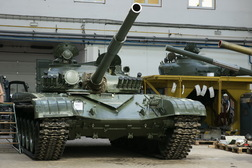t72: (8, 3, 204, 161)
